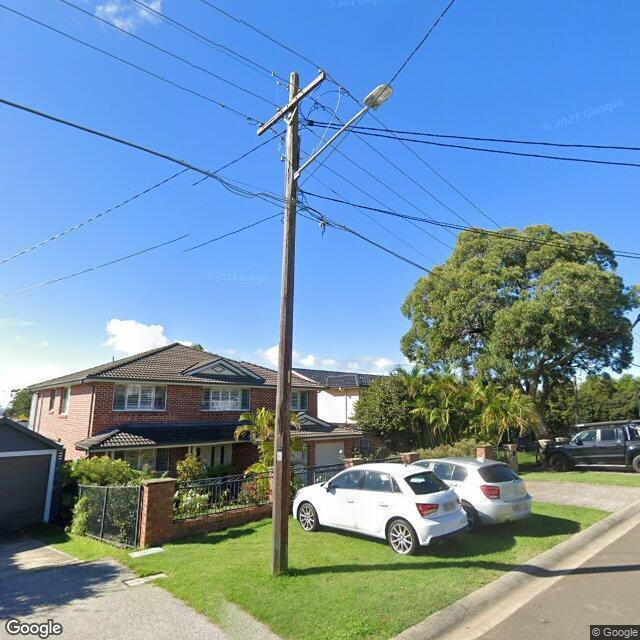crossarm: (256, 70, 327, 137)
streetlight: (294, 84, 394, 179)
timber-pole: (272, 70, 299, 576)
